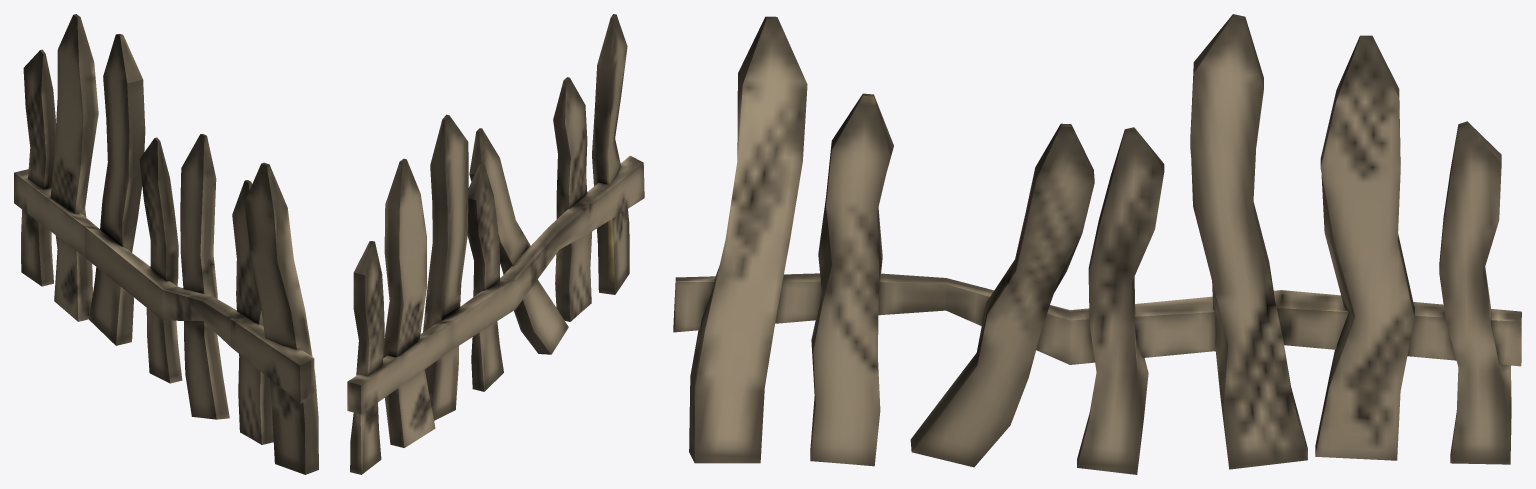
Rendered from PickettFence_02.fbx.
3 renders of one model, left to right at view 1: azimuth 30°, elevation 25°; view 2: azimuth 150°, elevation 25°; view 3: azimuth 270°, elevation 25°, orthographic. The views are drawn at different scales.
Parts seen in each view (by area): view 1: PickettFence_02; view 2: PickettFence_02; view 3: PickettFence_02.
Part boxes in pixels (left/top/right/bottom): PickettFence_02: left=14, top=14, right=318, bottom=474; PickettFence_02: left=347, top=14, right=644, bottom=474; PickettFence_02: left=673, top=14, right=1521, bottom=474.
Size of the model in its own units: 12.45 by 71.59 by 121.
